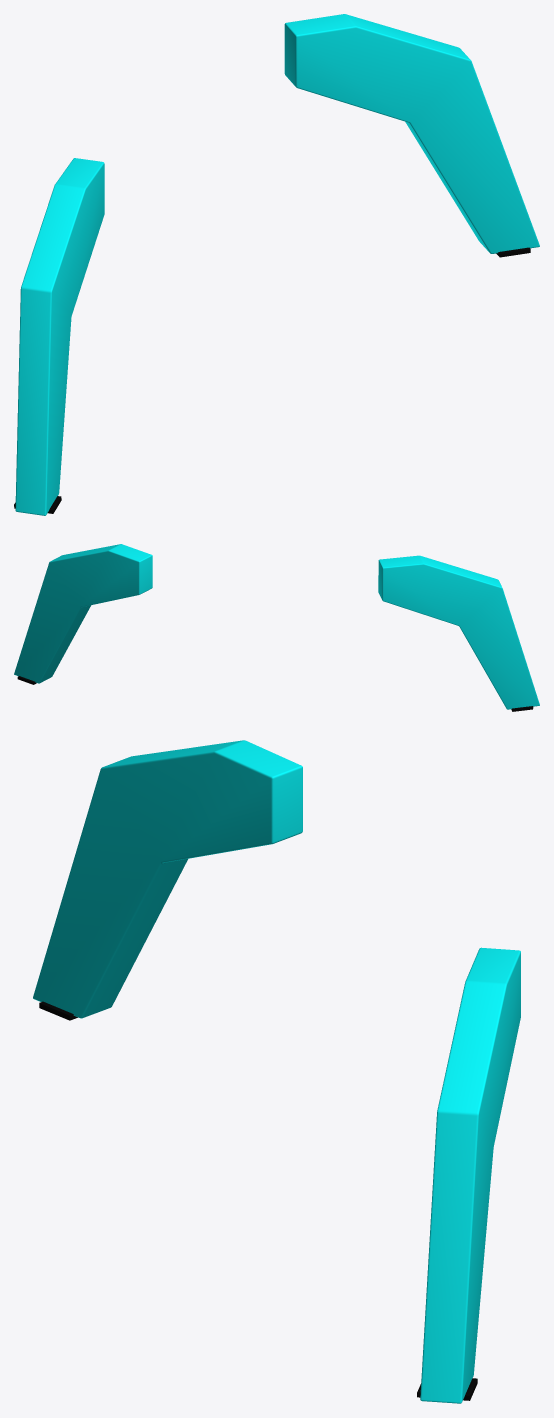
Rendered from levante_leg_corner_right.gltf.
3 views of the same model, one above another, from view 1: azimuth 30°, elevation 25°; view 2: azimuth 150°, elevation 25°; view 3: azimuth 270°, elevation 25° (orthographic). The views are drawn at different scales.
Parts seen in each view (by area): view 1: leg_corner_right; view 2: leg_corner_right; view 3: leg_corner_right.
Part boxes in pixels (x1,y1,x2,y2): leg_corner_right: (14, 14, 539, 515); leg_corner_right: (14, 544, 539, 711); leg_corner_right: (33, 740, 520, 1403).
Bounding box in the file's own units: 0.5756 × 0.206 × 0.2853.
